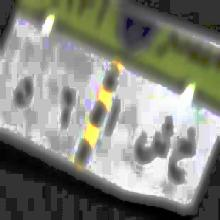5: (8, 70, 39, 115)
6: (57, 82, 77, 138)
alif: (106, 93, 123, 146)
khaa: (169, 127, 199, 191)
sheen: (134, 118, 170, 180)
